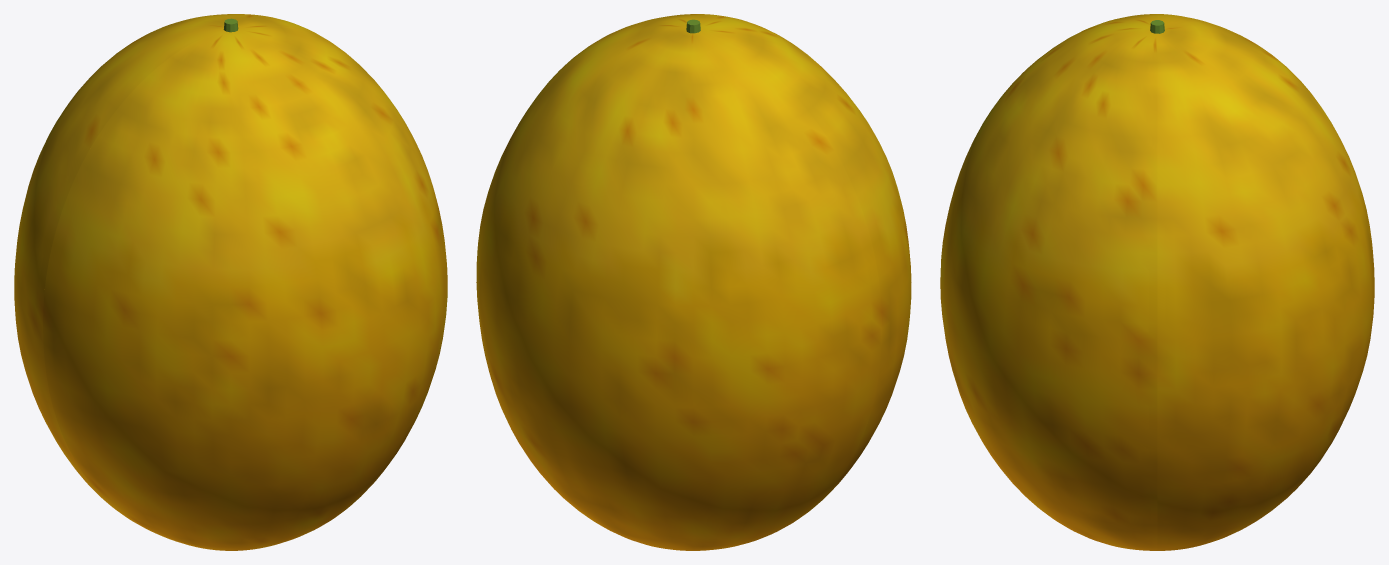
File: grenadille-jaune.glb
The picture shows the model from 3 angles, left to right: view 1: azimuth 30°, elevation 25°; view 2: azimuth 150°, elevation 25°; view 3: azimuth 270°, elevation 25°; orthographic projection.
Visible parts, largest first — view 1: entier_peau, moitie_B_peau, moitie_A_peau; view 2: entier_peau, moitie_A_peau, moitie_B_peau; view 3: entier_peau, moitie_A_peau, moitie_B_peau.
Part boxes in pixels (left/top/right/bottom): entier_peau: left=14, top=14, right=447, bottom=550; moitie_B_peau: left=43, top=25, right=447, bottom=550; moitie_A_peau: left=14, top=14, right=333, bottom=507; entier_peau: left=477, top=14, right=911, bottom=550; moitie_A_peau: left=476, top=26, right=881, bottom=550; moitie_B_peau: left=593, top=14, right=911, bottom=510; entier_peau: left=940, top=14, right=1374, bottom=550; moitie_A_peau: left=1157, top=14, right=1374, bottom=550; moitie_B_peau: left=940, top=14, right=1157, bottom=550.
Bounding box in the file's own units: 1.56 × 2.03 × 1.56.
